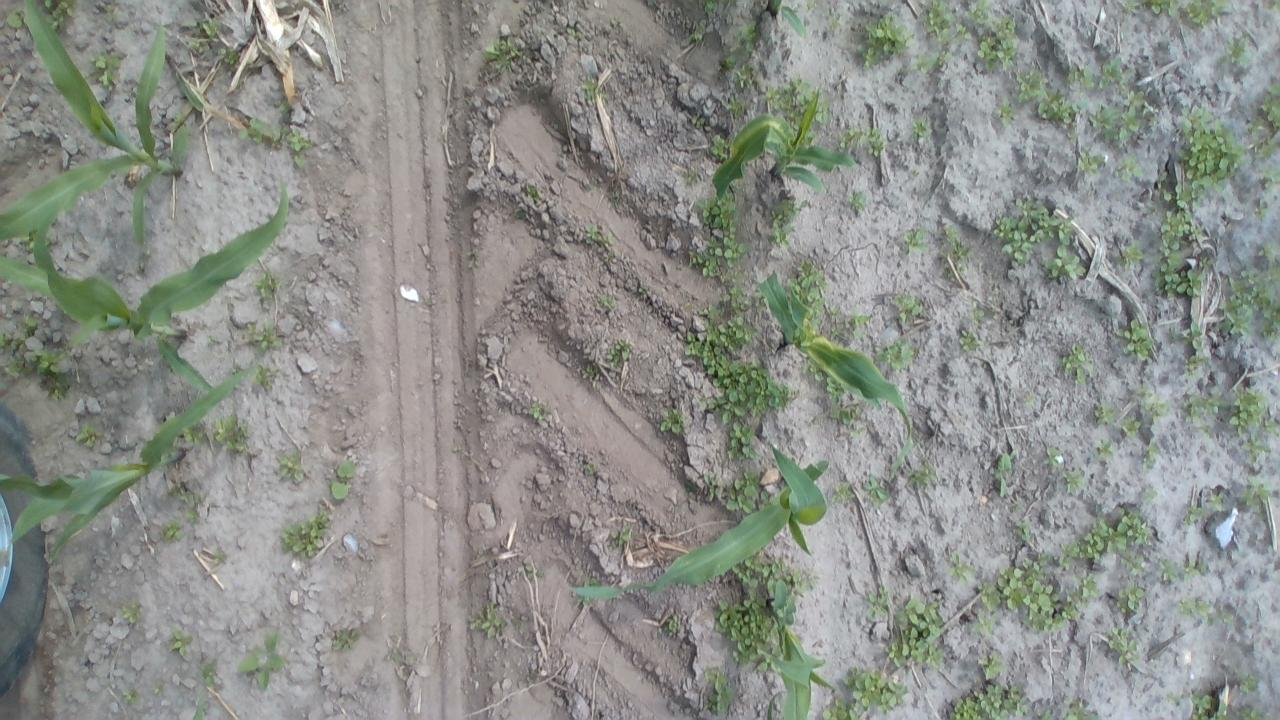Maize: (1, 180, 290, 391), (0, 366, 256, 562), (1, 1, 186, 246), (566, 444, 828, 600), (758, 271, 912, 474), (711, 88, 854, 200), (760, 579, 836, 720), (767, 0, 806, 37)
Weeds: (1001, 199, 1072, 260), (716, 361, 788, 421), (1162, 210, 1204, 298), (1230, 268, 1280, 338), (1182, 127, 1240, 182), (720, 600, 766, 669), (896, 598, 943, 662), (237, 631, 283, 692), (983, 566, 1043, 612), (946, 683, 1020, 719), (846, 671, 908, 709), (1063, 520, 1120, 561), (977, 16, 1018, 66), (686, 329, 729, 376), (284, 515, 328, 557), (866, 14, 914, 52), (1230, 387, 1266, 436), (1062, 574, 1098, 620), (1026, 578, 1060, 626), (1036, 89, 1080, 122), (1058, 342, 1092, 380), (214, 414, 248, 452), (726, 418, 756, 461), (1050, 245, 1086, 280), (1108, 628, 1142, 664), (1180, 1, 1228, 26), (924, 1, 953, 42), (469, 606, 504, 638), (705, 668, 731, 711), (1118, 513, 1154, 544), (727, 474, 756, 512), (944, 226, 972, 265), (1122, 320, 1152, 356), (1164, 182, 1206, 207), (92, 52, 123, 84), (878, 344, 918, 368), (718, 317, 751, 346), (1018, 71, 1047, 102), (702, 202, 735, 229), (716, 238, 746, 267), (331, 461, 353, 500), (201, 658, 226, 692), (1262, 85, 1280, 131), (288, 132, 312, 166), (332, 627, 361, 654), (278, 452, 304, 482), (906, 465, 938, 489), (698, 470, 722, 502), (688, 249, 715, 276), (605, 338, 634, 363), (1179, 107, 1209, 131), (864, 478, 894, 500), (1118, 112, 1140, 142), (485, 41, 516, 62), (252, 326, 277, 352), (260, 272, 278, 308), (1188, 393, 1222, 412), (1242, 483, 1270, 506), (997, 452, 1011, 498), (1180, 598, 1212, 618), (722, 286, 746, 312), (1190, 692, 1214, 718), (896, 296, 922, 320), (1064, 62, 1092, 84), (182, 489, 200, 523), (76, 423, 100, 448), (246, 119, 271, 143), (1120, 244, 1143, 270), (171, 630, 192, 658), (1091, 108, 1120, 128), (831, 478, 854, 503), (1226, 38, 1248, 64), (257, 366, 278, 393), (822, 700, 853, 718), (762, 85, 786, 108), (1102, 57, 1124, 82), (36, 352, 62, 373), (1122, 88, 1143, 114), (1228, 310, 1250, 334), (706, 133, 726, 159), (50, 0, 76, 20), (1076, 153, 1106, 170), (850, 315, 873, 337), (839, 130, 867, 148), (867, 592, 888, 616), (1253, 138, 1278, 158), (1158, 559, 1178, 584), (1095, 402, 1117, 424), (46, 376, 69, 397), (971, 0, 992, 23), (950, 558, 970, 582), (1248, 436, 1268, 460), (791, 74, 808, 102), (1142, 0, 1178, 13), (959, 330, 980, 352), (799, 264, 820, 286), (162, 521, 185, 541), (660, 414, 683, 434), (745, 558, 762, 584), (13, 352, 34, 373), (734, 68, 756, 88), (903, 229, 925, 249), (1124, 588, 1144, 610), (971, 614, 992, 634), (1228, 705, 1260, 718), (870, 131, 886, 157), (1185, 356, 1207, 374), (1190, 322, 1204, 350), (998, 103, 1015, 126), (1117, 158, 1140, 175), (993, 216, 1012, 236), (1206, 490, 1225, 510), (1063, 703, 1084, 720), (1065, 470, 1082, 491), (852, 190, 868, 212), (125, 602, 144, 620), (529, 400, 548, 418), (984, 659, 1002, 678), (1121, 419, 1141, 436), (1240, 676, 1260, 693), (720, 610, 740, 627), (192, 699, 208, 720), (1132, 385, 1150, 403), (1182, 506, 1200, 524), (912, 119, 931, 136), (730, 98, 746, 118), (862, 48, 878, 68), (21, 318, 38, 336), (926, 646, 944, 663), (1096, 440, 1115, 456), (0, 332, 15, 352), (1263, 165, 1280, 182), (770, 208, 786, 226), (914, 56, 932, 72), (1044, 448, 1060, 466), (1016, 518, 1032, 535), (1264, 418, 1279, 436), (616, 528, 632, 544), (667, 615, 681, 633), (1143, 446, 1157, 464), (1258, 244, 1273, 260), (770, 561, 786, 576), (721, 54, 736, 69), (583, 78, 597, 94), (956, 21, 970, 37), (1184, 564, 1200, 578), (586, 226, 598, 244), (223, 48, 238, 62), (6, 13, 22, 26), (776, 228, 789, 244), (125, 687, 138, 702), (748, 26, 761, 41), (1150, 403, 1166, 415), (526, 184, 538, 200), (1256, 206, 1268, 221), (1249, 115, 1261, 130), (582, 364, 597, 376), (818, 109, 829, 124), (938, 50, 948, 66), (704, 2, 720, 12), (692, 117, 706, 127), (793, 575, 804, 587), (971, 309, 985, 318), (1022, 394, 1034, 404)
